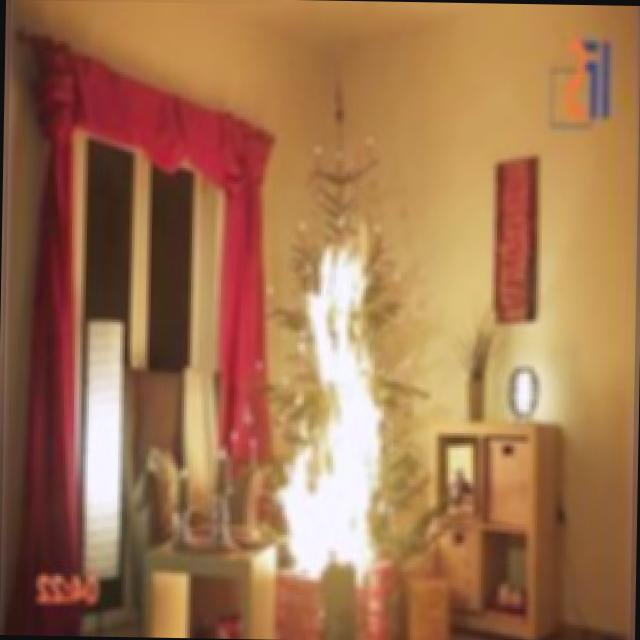fire: (260, 208, 422, 591)
